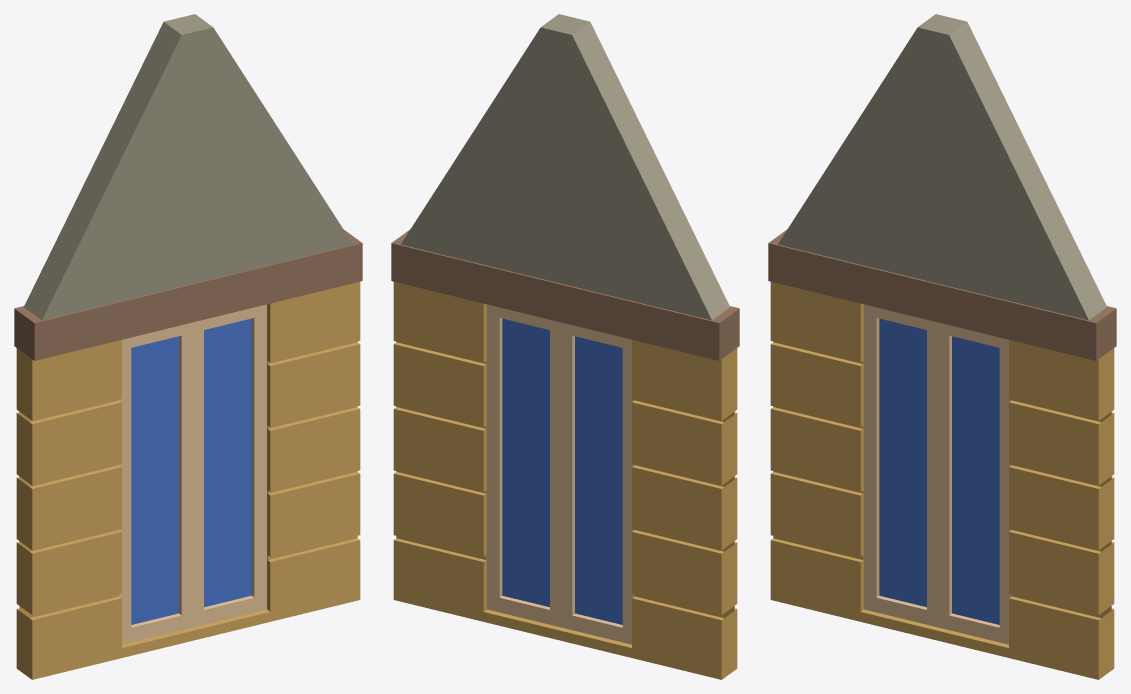
File: Window02_house5.fbx
3 renders of one model, left to right at view 1: azimuth 30°, elevation 25°; view 2: azimuth 150°, elevation 25°; view 3: azimuth 330°, elevation 25°, orthographic.
Visible parts, largest first — view 1: Window02_house05; view 2: Window02_house05; view 3: Window02_house05.
Part boxes in pixels (<box>): Window02_house05: <box>14,14,362,679</box>; Window02_house05: <box>391,14,739,679</box>; Window02_house05: <box>768,14,1116,679</box>.
Size of the model in its own units: 287 by 509 by 30.88.
